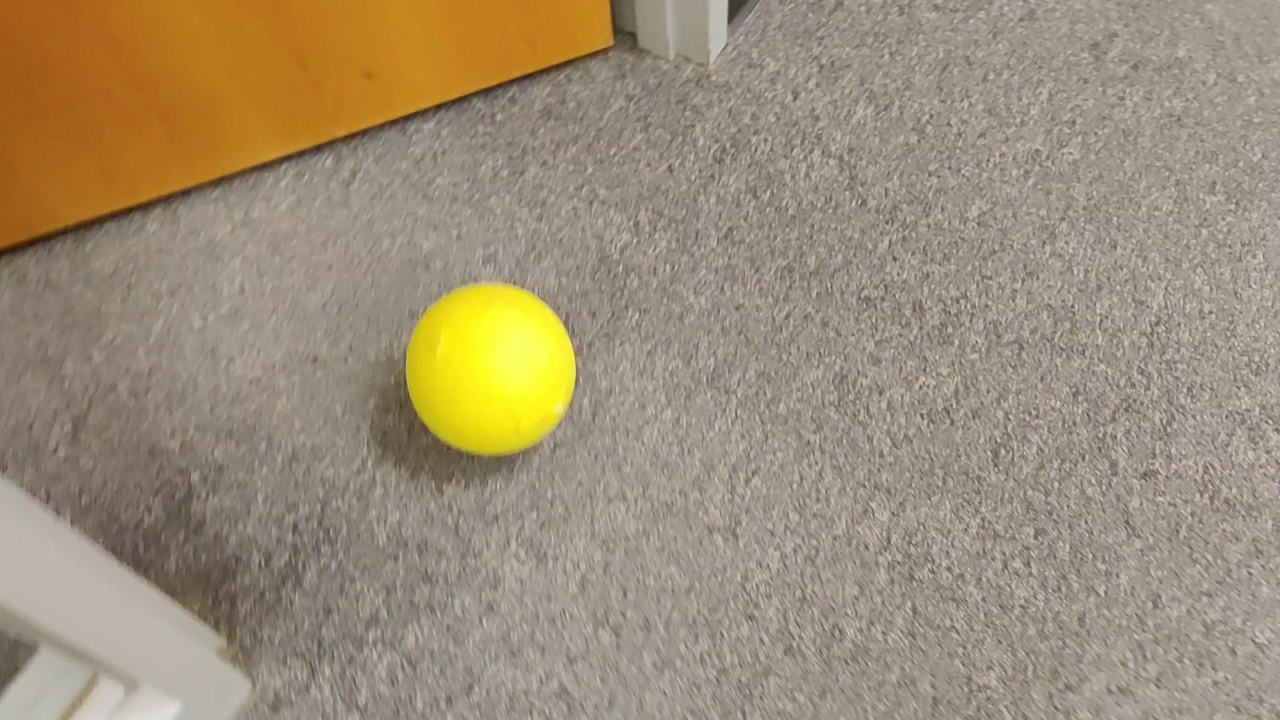Ball: (399, 277, 601, 466)
